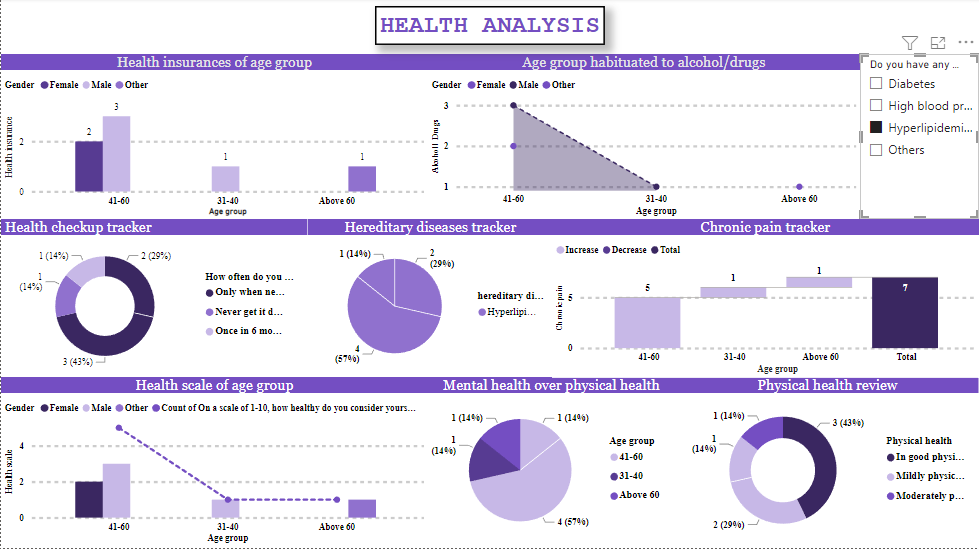

Layout of this report page (visuals, bound fields, positions):
{"tool":"powerbi","page":{"name":"Page 2","canvas":[1280,720],"ordinal":1},"visuals":[{"type":"areaChart","title":"Age group habituated to alcohol/drugs ","fields":{"Category":["Health Analysis.Age group"],"Y":["CountNonNull(Health Analysis.Are you habituated to alcohol/drugs ?)"],"Series":["Health Analysis.Gender"]},"box":[558.7,72.8,565.5,216.7],"z":0},{"type":"slicer","fields":{"Values":["Health Analysis.Do you have any hereditary conditions/ diseases ?"]},"box":[1124.2,72.8,155.8,216.7],"z":1000},{"type":"clusteredColumnChart","title":"Health insurances of age group","fields":{"Series":["Health Analysis.Gender"],"Category":["Health Analysis.Age group"],"Y":["CountNonNull(Health Analysis.Do you have a health insurance ? )"]},"box":[0,72.8,558.7,216.7],"z":2000},{"type":"pieChart","title":"Hereditary diseases tracker","fields":{"Series":["Health Analysis.Gender"],"Category":["Health Analysis.Do you have any hereditary conditions/ diseases ?"],"Y":["CountNonNull(Health Analysis.Gender)"]},"box":[401.3,289.5,320,206.6],"z":3000},{"type":"donutChart","title":"Health checkup tracker","fields":{"Series":["Health Analysis.Gender"],"Y":["CountNonNull(Health Analysis.Gender)"],"Category":["Health Analysis.How often do you get a health checkup ? "]},"box":[0,289.5,401.3,206.6],"z":4000},{"type":"lineClusteredColumnComboChart","title":"Health scale of age group","fields":{"Category":["Health Analysis.Age group"],"Series":["Health Analysis.Gender"],"Y":["CountNonNull(Health Analysis.On a scale of 1-10, how healthy do you consider yourself ?)"],"Y2":["CountNonNull(Health Analysis.On a scale of 1-10, how healthy do you consider yourself ?)"]},"box":[0,496.1,558.7,223.5],"z":5000},{"type":"donutChart","title":"Physical health review ","fields":{"Y":["CountNonNull(Health Analysis.Gender)"],"Series":["Health Analysis.Gender"],"Category":["Health Analysis.Would you say you are :"]},"box":[883.8,496.1,396.2,223.5],"z":6000},{"type":"pieChart","title":"Mental health over physical health","fields":{"Category":["Health Analysis.Age group"],"Y":["CountNonNull(Health Analysis.Does your mental well being has an affect on your physical health ?)"],"Series":["Health Analysis.Does your mental well being has an affect on your physical health ?"]},"box":[558.3,495.9,325.5,223],"z":7000},{"type":"waterfallChart","title":"Chronic pain tracker ","fields":{"Category":["Health Analysis.Age group"],"Y":["CountNonNull(Health Analysis.Do you experience any chronic pain ?)"]},"box":[721.3,289.5,558.7,208.3],"z":8000},{"type":"shape","box":[489,11.1,300.6,51.3],"z":9000}]}

Visuals, with their boxes in screenshot pixels (x1, y1, x2, y2), scaled from the page's 1280x720 canvas onto the 979x549 screenshot:
"Age group habituated to alcohol/drugs " areaChart: [left=427, top=56, right=860, bottom=221]
slicer - Health Analysis.Do you have any hereditary conditions/ diseases ?: [left=860, top=56, right=978, bottom=221]
"Health insurances of age group" clusteredColumnChart: [left=0, top=56, right=427, bottom=221]
"Hereditary diseases tracker" pieChart: [left=307, top=221, right=552, bottom=378]
"Health checkup tracker" donutChart: [left=0, top=221, right=307, bottom=378]
"Health scale of age group" lineClusteredColumnComboChart: [left=0, top=378, right=427, bottom=548]
"Physical health review " donutChart: [left=676, top=378, right=978, bottom=548]
"Mental health over physical health" pieChart: [left=427, top=378, right=676, bottom=548]
"Chronic pain tracker " waterfallChart: [left=552, top=221, right=978, bottom=380]
shape: [left=374, top=8, right=604, bottom=48]
